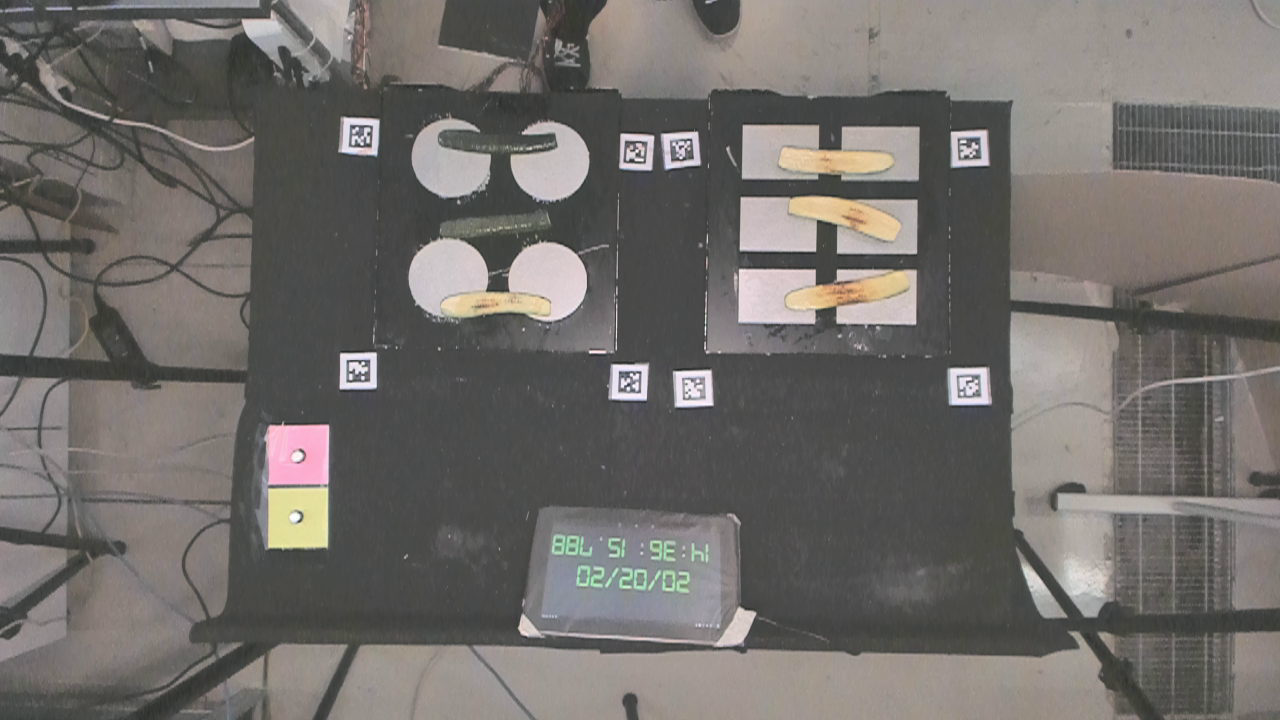marker: (268, 423, 329, 486)
zucchini: (784, 193, 909, 248), (772, 135, 901, 174), (786, 271, 909, 311), (435, 285, 555, 319), (435, 127, 563, 156), (437, 213, 556, 241)
